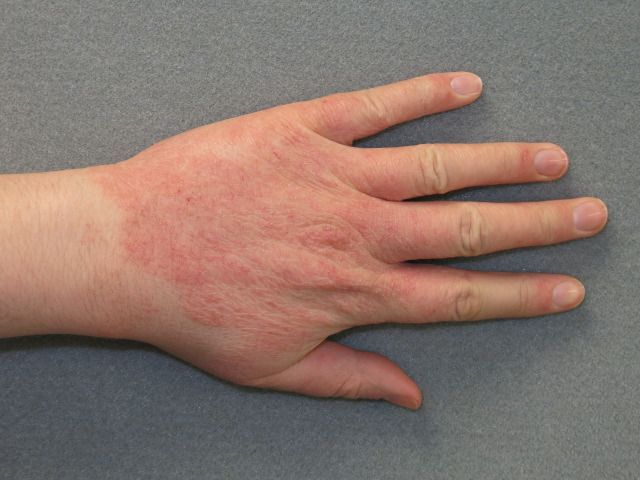Diseased: (123, 103, 532, 365)
